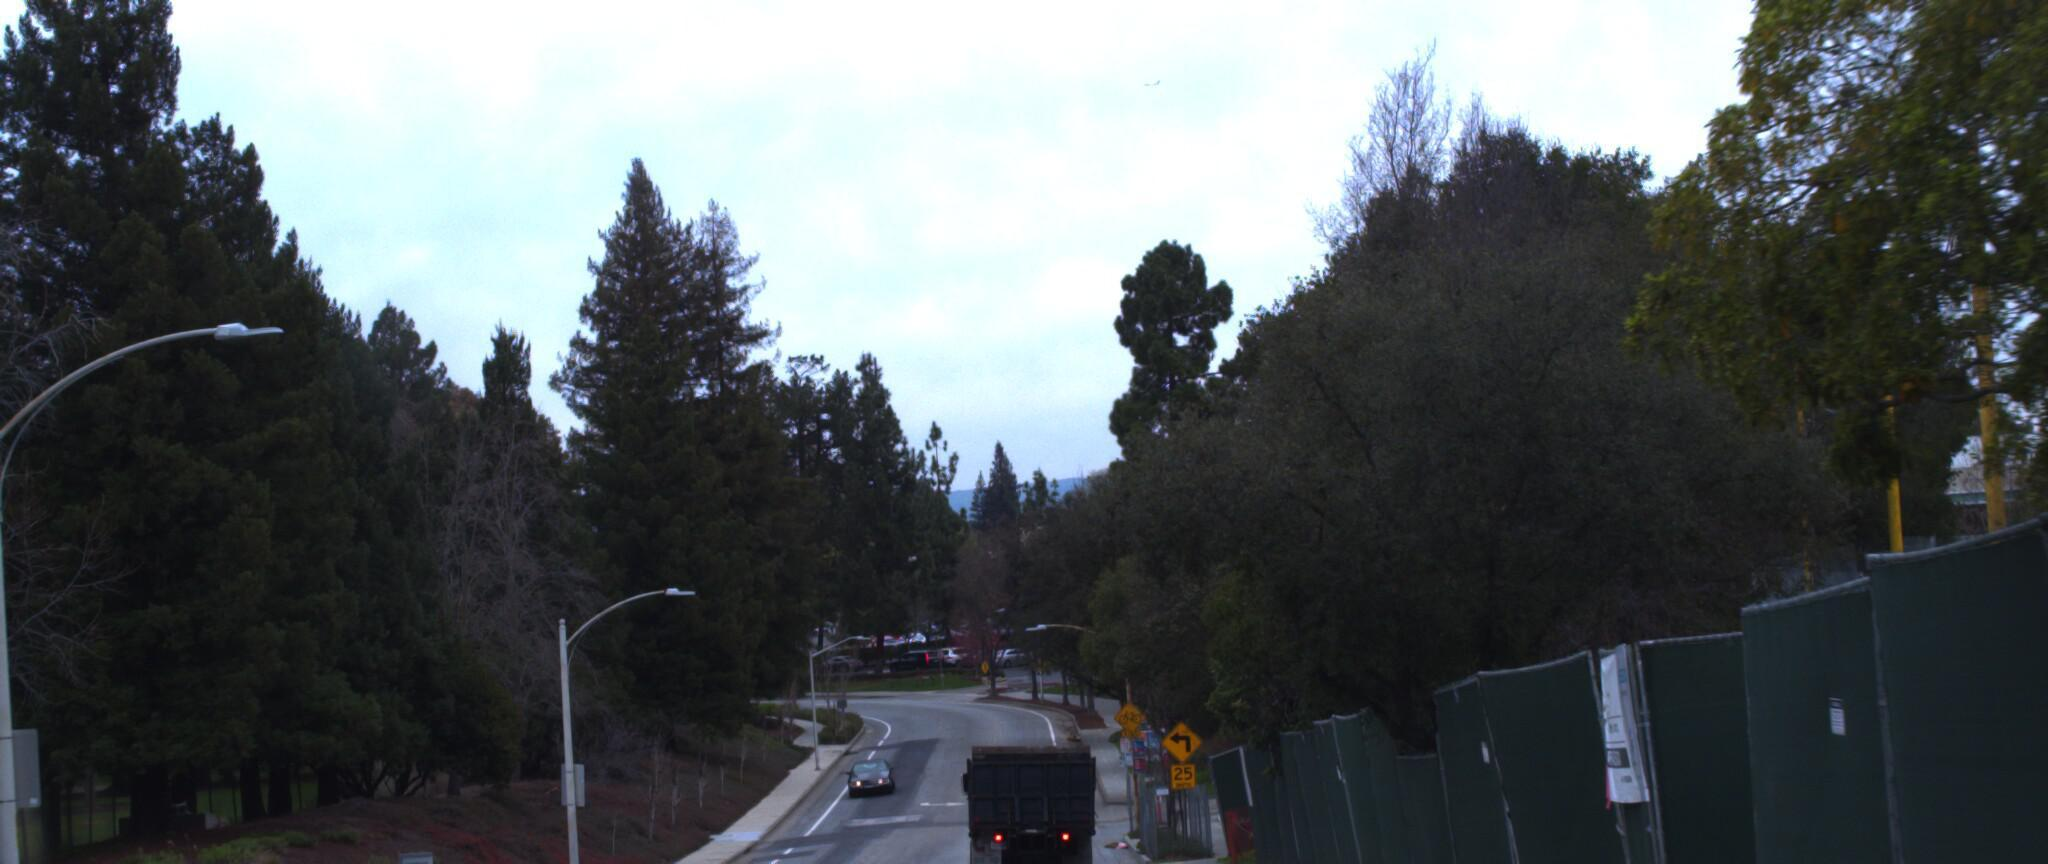truck: (948, 703, 1104, 864)
